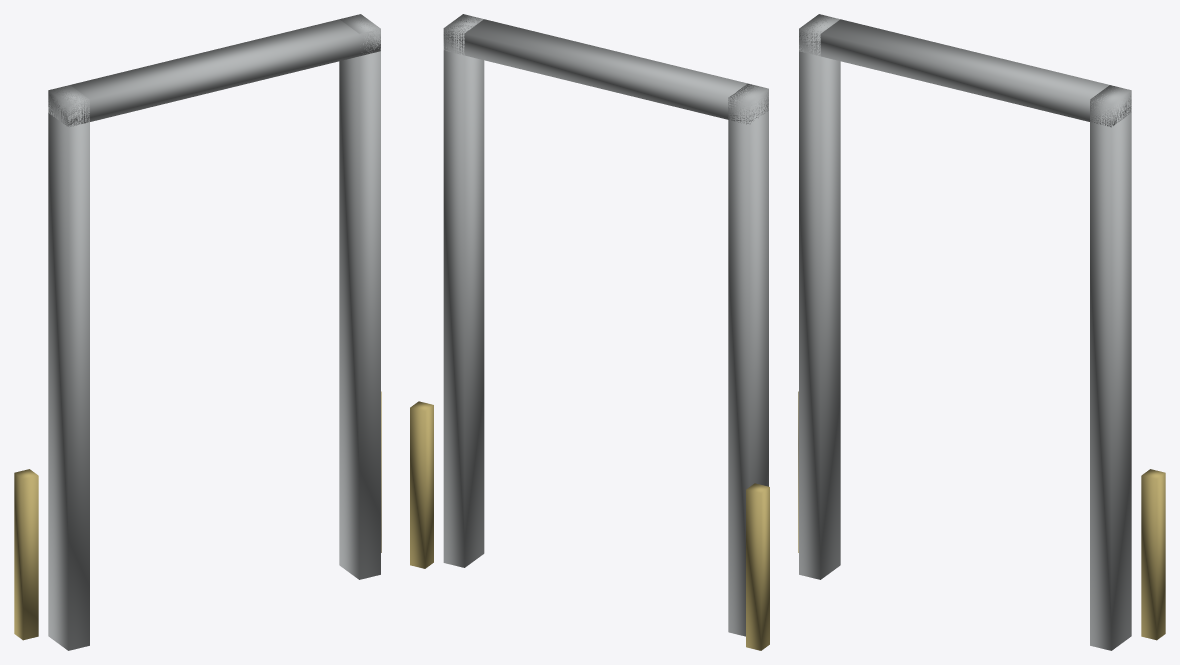
Rendered from stair_shaft_industrial_w140_h260_d18.glb.
3 renders of one model, left to right at view 1: azimuth 30°, elevation 25°; view 2: azimuth 150°, elevation 25°; view 3: azimuth 330°, elevation 25°, orthographic. The views are drawn at different scales.
Parts seen in each view (by area): view 1: world; view 2: world; view 3: world.
Boxes of the visible parts, box(x1,y1,x2,y2) form: world: box(14, 14, 381, 650); world: box(410, 14, 769, 650); world: box(798, 14, 1165, 650).
Bounding box in the file's own units: 1.86 × 2.71 × 0.28.
